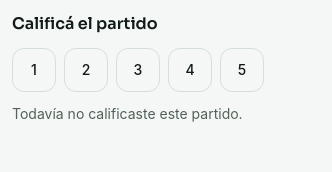
Scenario: Guardar y editar › muestra la nota que confirma el servidor, no la que se pidió
This screenshot has width=332, height=172.
What coordinates should you click on to do the following:
click the button "5"
I would click on:
 (242, 70)
Its box is [220,48,264,92].
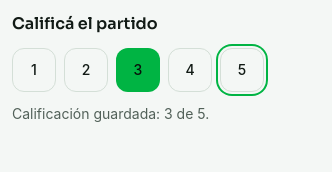
Check: the text "Calificación guardada: 3 de 5." is shown, box [12,105,209,122]
